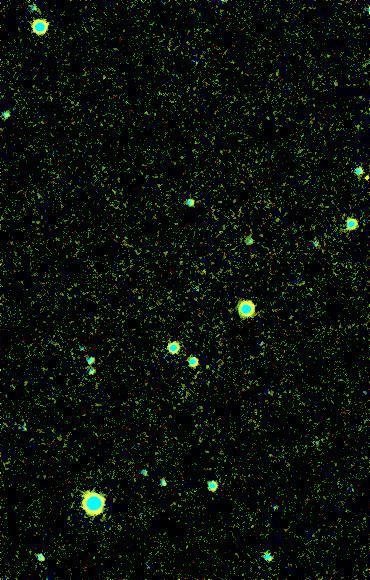star: (351, 162, 370, 192)
